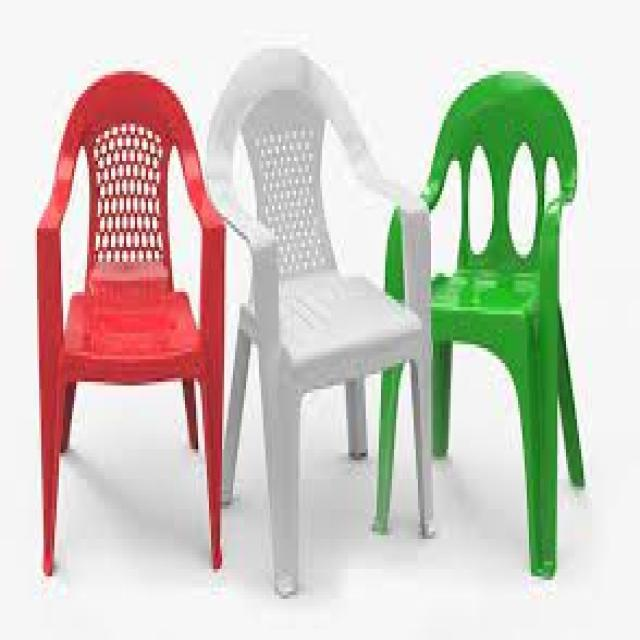chair: (202, 31, 444, 608), (369, 58, 602, 606), (28, 54, 256, 610)
